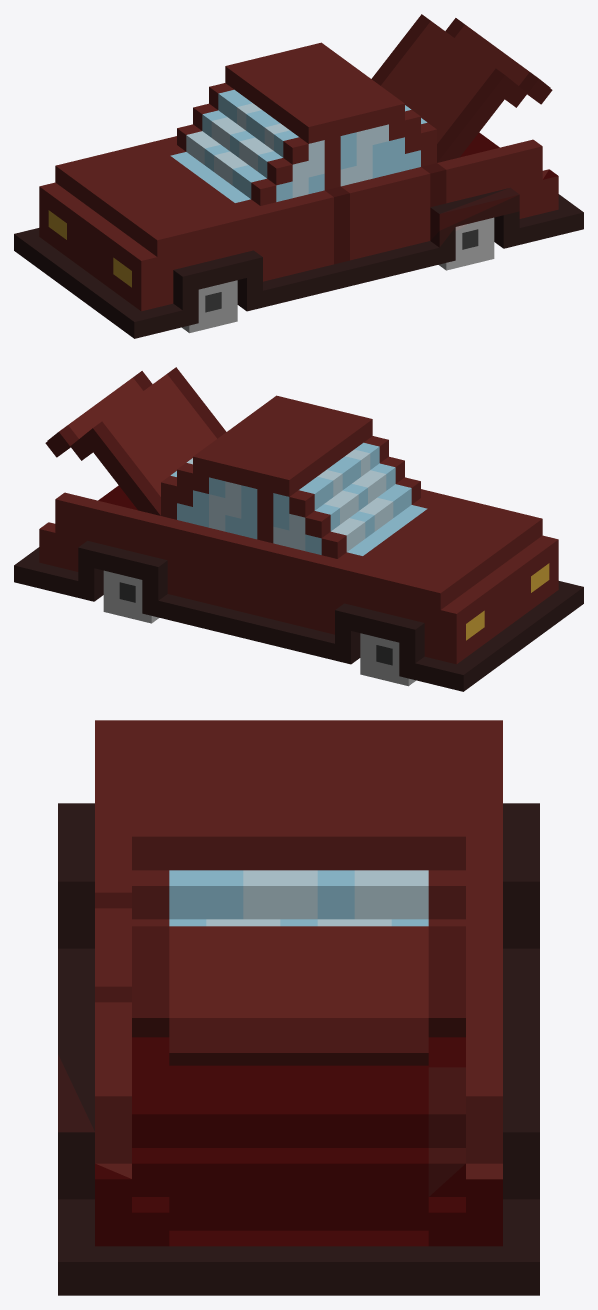
File: car_unity.fbx
3 renders of one model, top to bottom at view 1: azimuth 30°, elevation 25°; view 2: azimuth 150°, elevation 25°; view 3: azimuth 270°, elevation 25°, orthographic. The views are drawn at different scales.
Parts seen in each view (by area): view 1: car; view 2: car; view 3: car.
Part boxes in pixels (x1,y1,x2,y2): car: [14, 14, 583, 338]; car: [14, 367, 583, 691]; car: [58, 720, 539, 1295].
Size of the model in its own units: 585 by 214 by 272.
